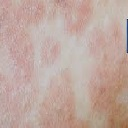Measles: (12, 12, 119, 119)
